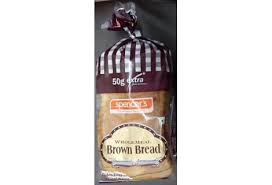bread: (95, 12, 179, 185)
